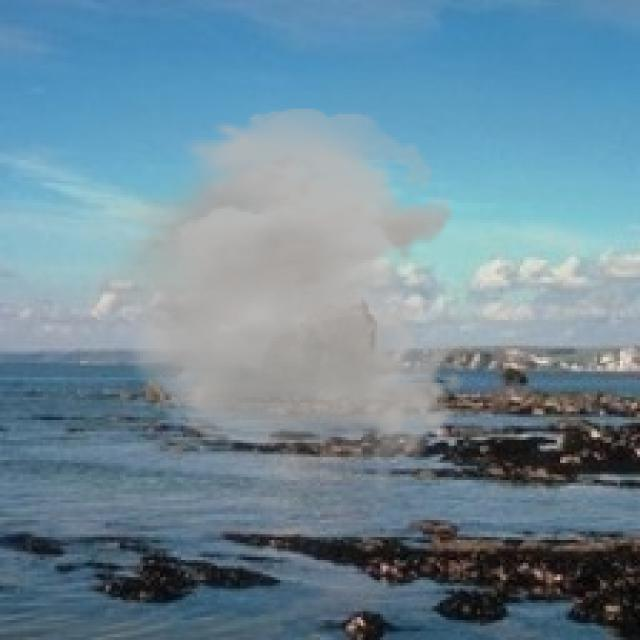smoke: (77, 108, 466, 463)
